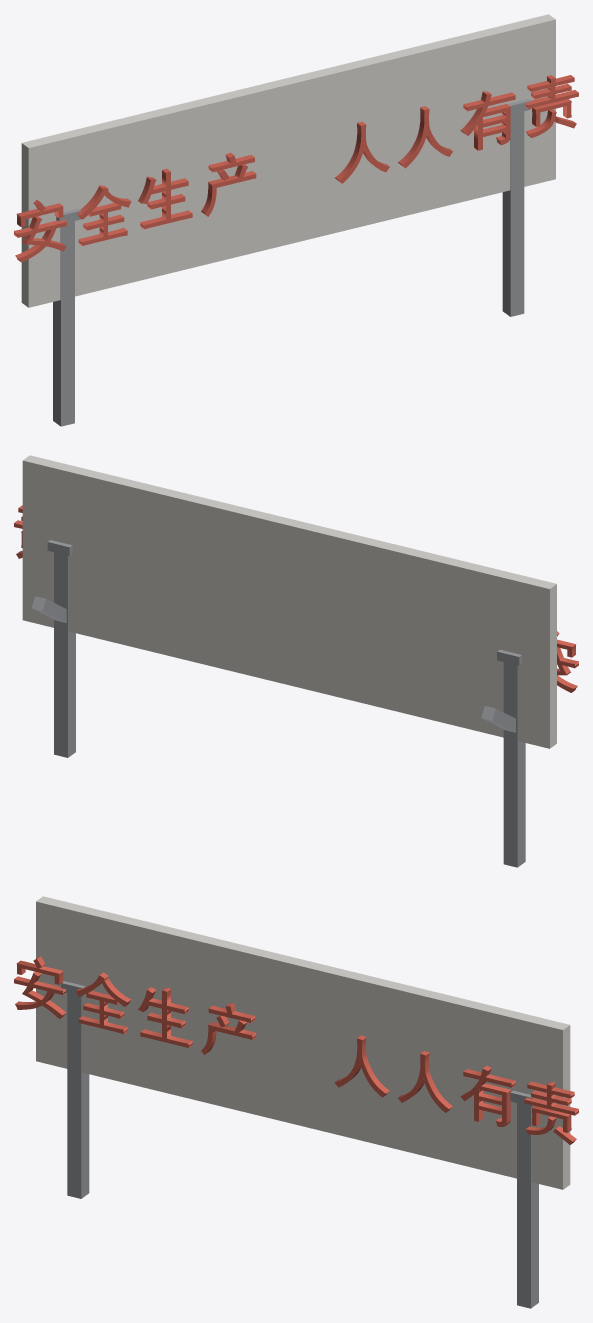
Rendered from slogan_safety.glb.
3 views of the same model, one above another, from view 1: azimuth 30°, elevation 25°; view 2: azimuth 150°, elevation 25°; view 3: azimuth 330°, elevation 25° (orthographic).
Visible parts, largest first — view 1: slogan_safety; view 2: slogan_safety; view 3: slogan_safety.
Part boxes in pixels (x1,y1,x2,y2): slogan_safety: [14, 14, 578, 426]; slogan_safety: [14, 455, 578, 867]; slogan_safety: [14, 896, 578, 1308].
Size of the model in its own units: 4.04 by 1.97 by 0.4627.
